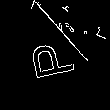P_W: (20, 42, 76, 88)
